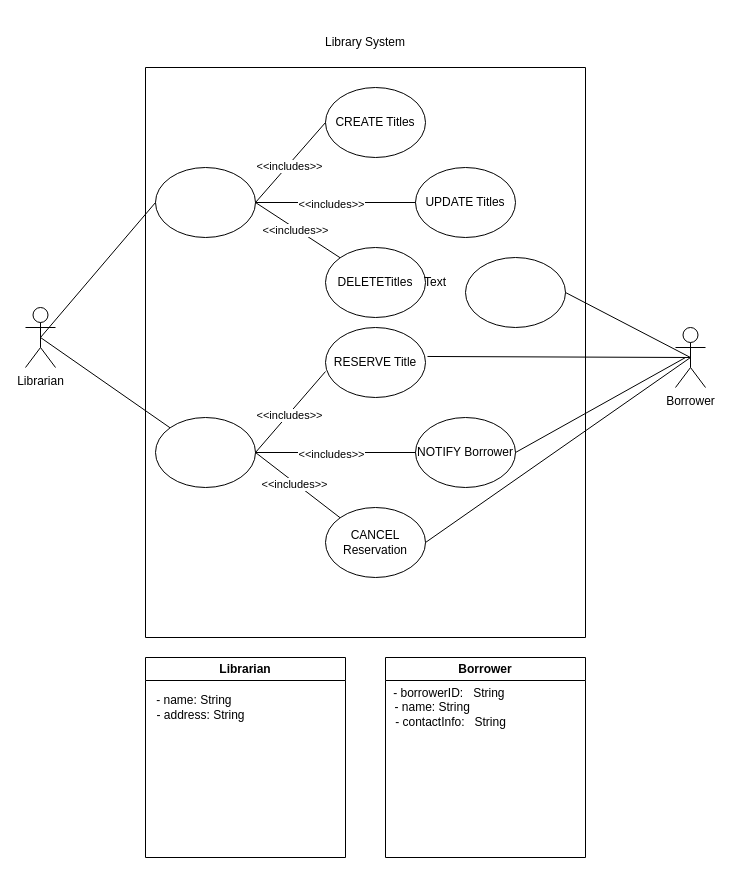
Some shapes in this 732 by 875 pixel diagram are drawn without their labels. The shapes that lost their labels are listed below. From the top down, each one's centre as x and y in pixels, then its label:
At point (205, 202): "MANAGE Titles".
At point (515, 292): "CHECKIOUT Title".
At point (205, 452): "HANDLE Reservations".
